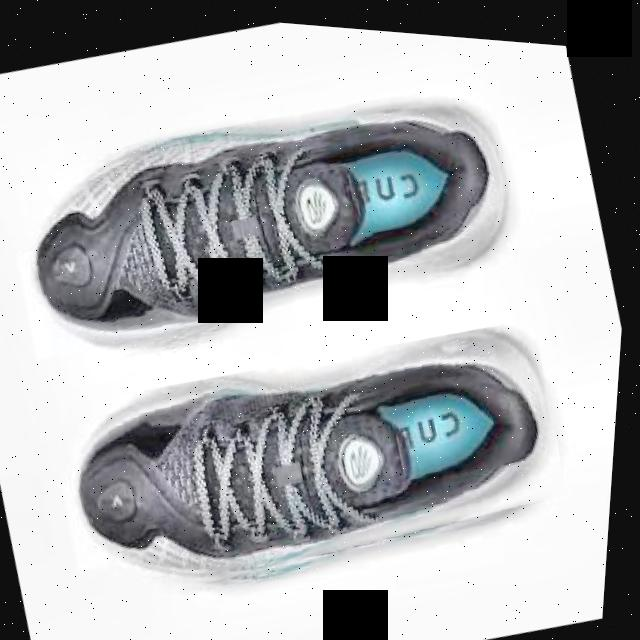shoe: (4, 40, 542, 399), (54, 279, 590, 636)
